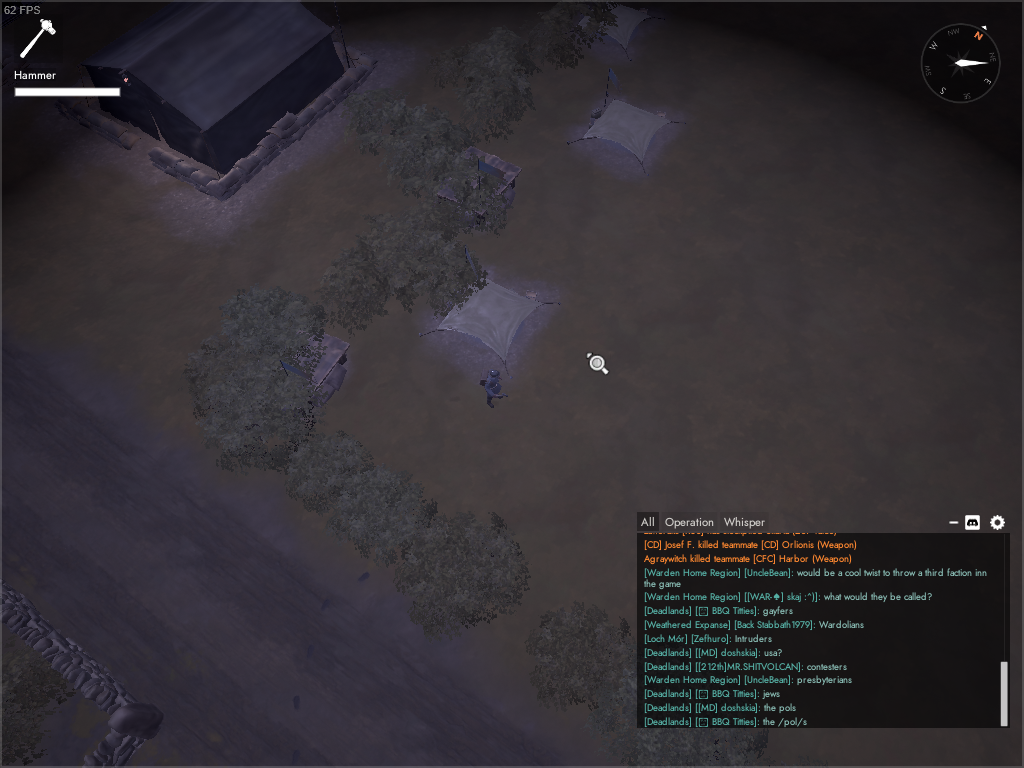foxhole: (412, 263, 568, 378), (565, 63, 687, 177), (553, 1, 669, 67)
pillbox: (218, 305, 355, 428), (433, 143, 525, 232)
player: (473, 363, 510, 411)
